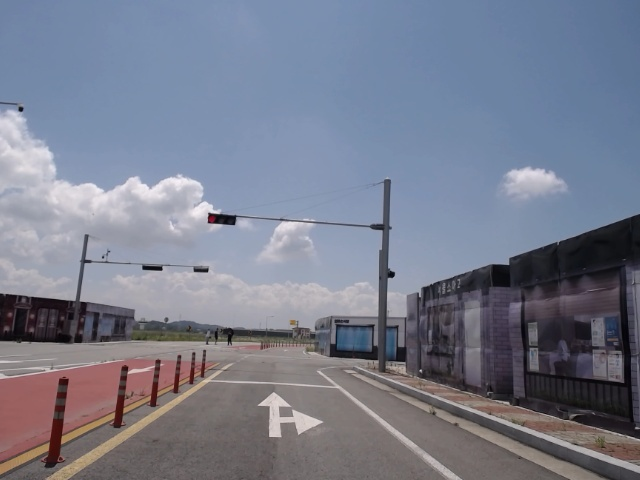red_3: (206, 213, 238, 227)
